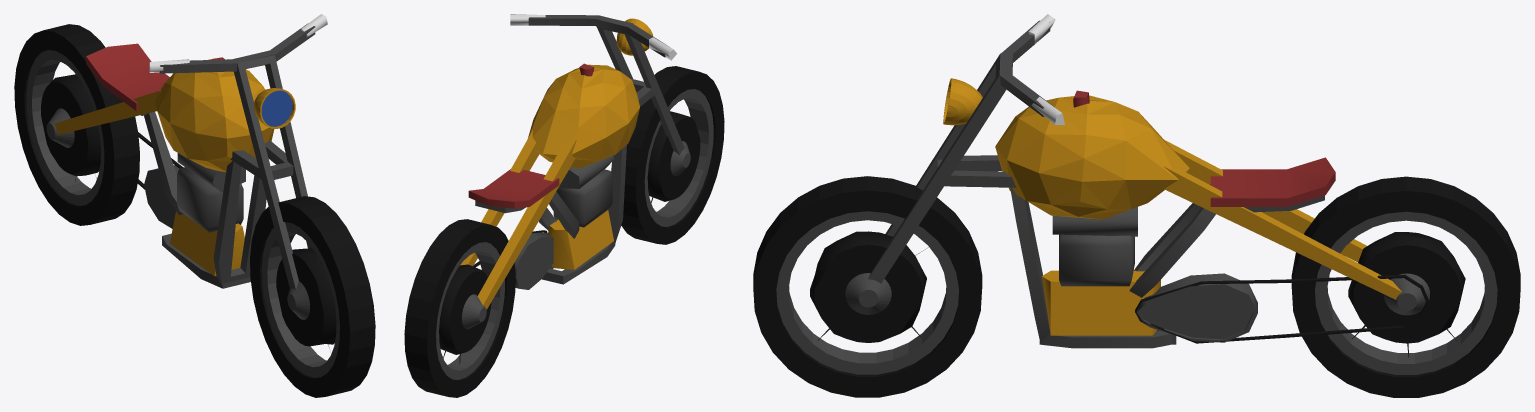
Rendered from moto-4.glb.
The picture shows the model from 3 angles, left to right: view 1: azimuth 30°, elevation 25°; view 2: azimuth 150°, elevation 25°; view 3: azimuth 270°, elevation 25°; orthographic projection. The views are drawn at different scales.
Parts seen in each view (by area): view 1: Tube004; view 2: Tube004; view 3: Tube004.
Part boxes in pixels (left/top/right/bottom): Tube004: left=14, top=14, right=375, bottom=397; Tube004: left=404, top=14, right=724, bottom=397; Tube004: left=753, top=14, right=1520, bottom=397.
Size of the model in its own units: 0.5353 by 0.8065 by 1.7.
